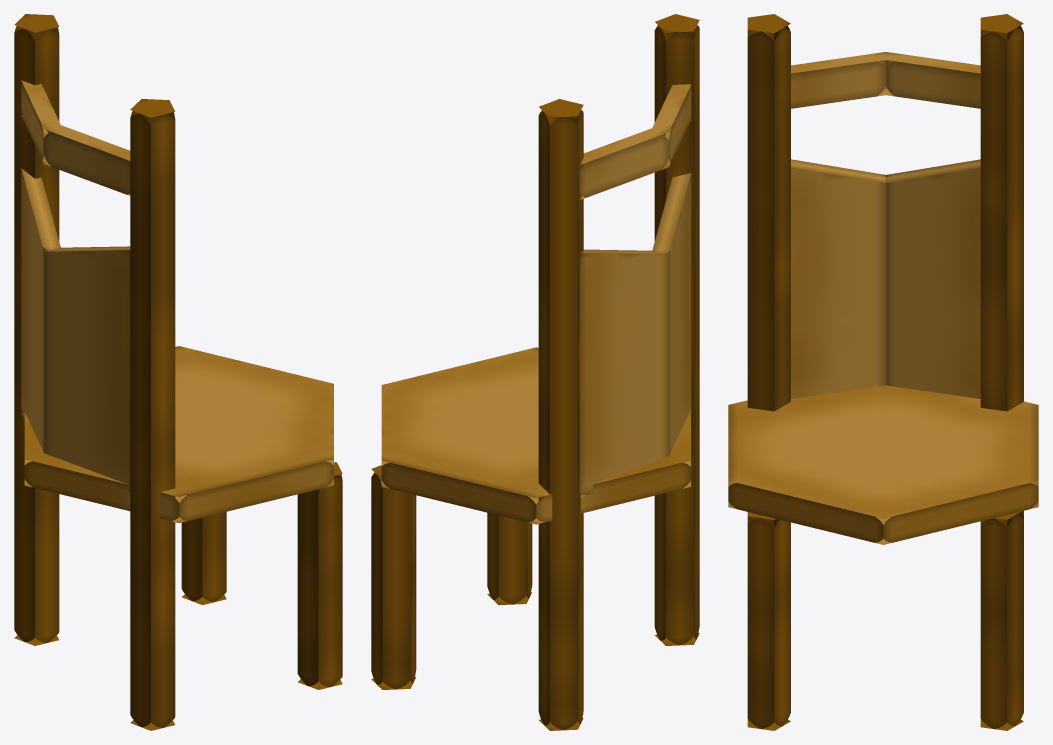
Rendered from chair1.fbx.
The picture shows the model from 3 angles, left to right: view 1: azimuth 30°, elevation 25°; view 2: azimuth 150°, elevation 25°; view 3: azimuth 270°, elevation 25°; orthographic projection.
Visible parts, largest first — view 1: cylinder_2, cylinder_4, cuboid, cylinder_3, cylinder_1, cuboid_1, cylinder; view 2: cylinder_3, cylinder_4, cuboid, cylinder_2, cylinder, cuboid_1, cylinder_1; view 3: cuboid, cylinder_4, cylinder_3, cylinder_2, cylinder, cylinder_1, cuboid_1.
Boxes of the visible parts, x1,y1,x2,y2 form: cylinder_2: (130,99,175,730); cylinder_4: (24,346,333,523); cuboid: (21,168,130,491); cylinder_3: (14,14,59,645); cylinder_1: (297,462,342,689); cuboid_1: (21,80,130,195); cylinder: (181,512,226,604); cylinder_3: (538,99,583,730); cylinder_4: (381,347,690,524); cuboid: (580,173,691,497); cylinder_2: (654,14,699,645); cylinder: (371,465,416,689); cuboid_1: (580,84,691,199); cylinder_1: (487,512,532,605); cuboid: (791,159,980,398); cylinder_4: (728,385,1038,544); cylinder_3: (980,14,1023,518); cylinder_2: (747,14,790,411); cylinder: (980,511,1023,730); cylinder_1: (747,512,790,730); cuboid_1: (791,52,980,108).
Bounding box in the file's own units: 115 × 219 × 100.
1 material, 1 textured.
